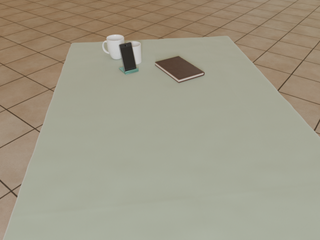book: (155, 56, 204, 83)
cup: (103, 35, 124, 59), (131, 41, 141, 64)
phone: (118, 42, 136, 72)
